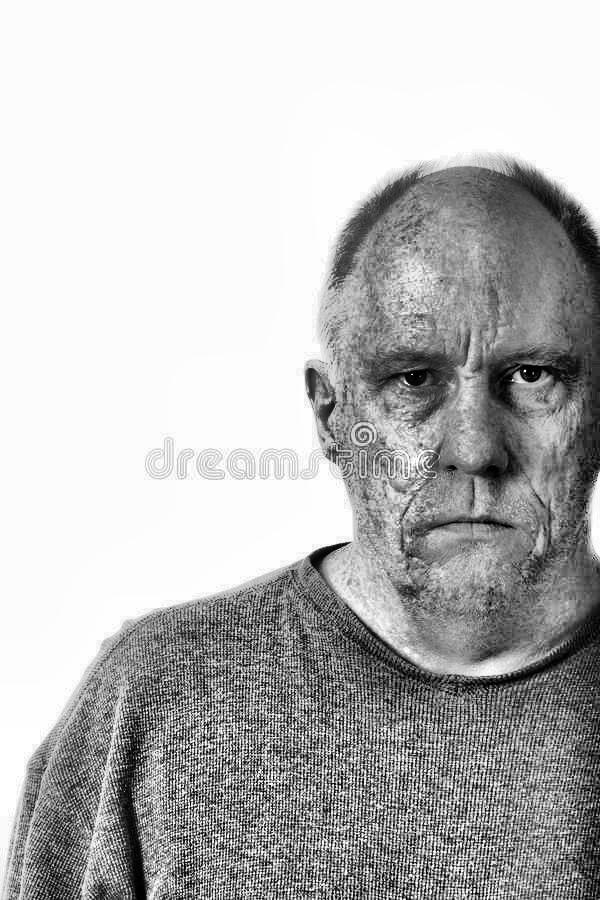angry: (277, 129, 600, 691)
